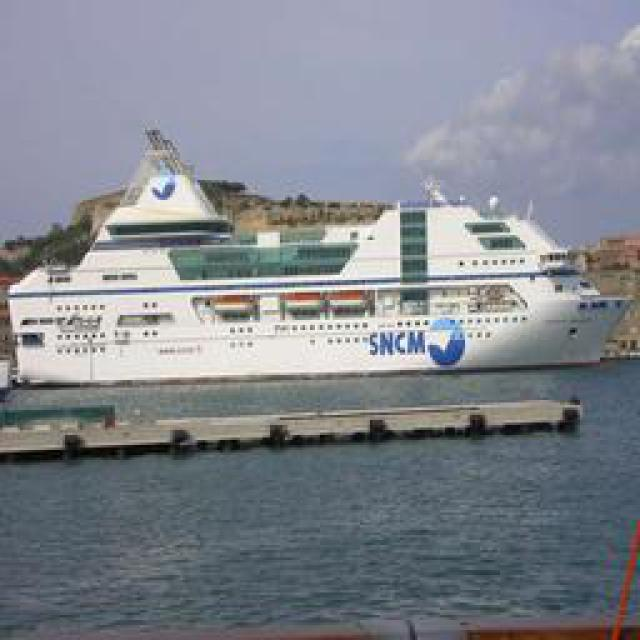Ship: (3, 129, 634, 396)
